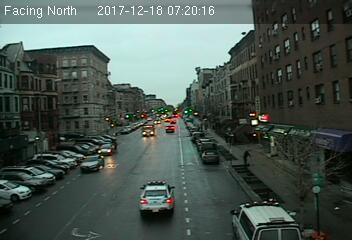car: (79, 153, 103, 171), (198, 149, 219, 163), (98, 143, 113, 155)
police: (229, 197, 304, 240), (135, 179, 179, 219)
